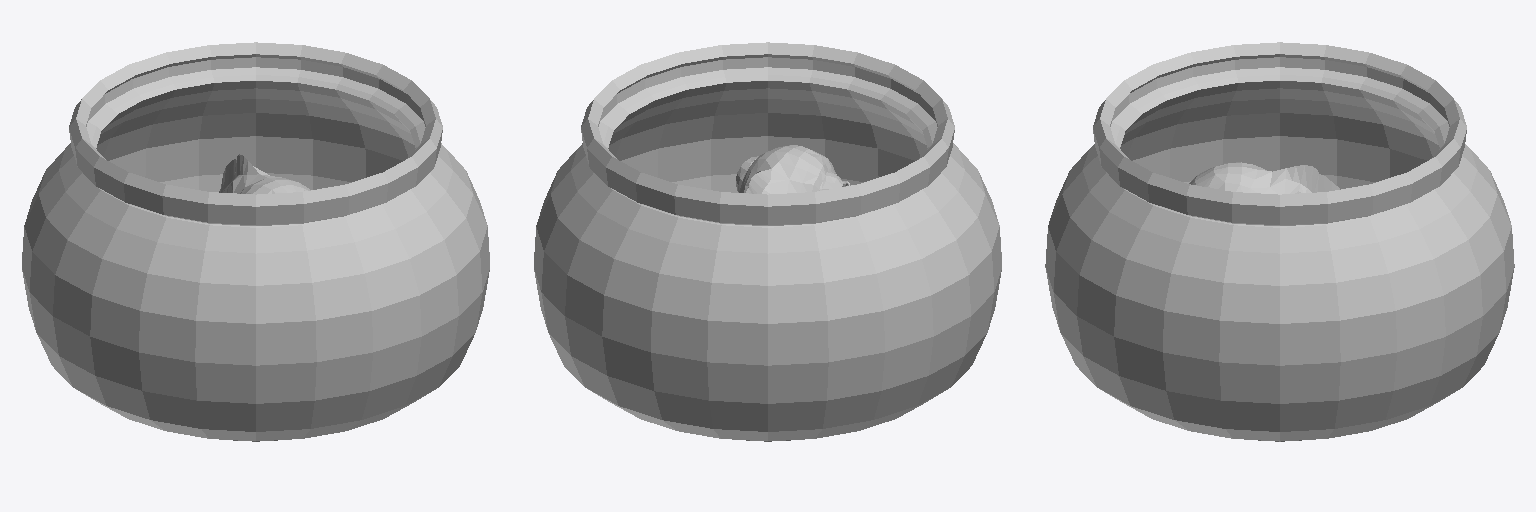
Rendered from fishforsketchfab.obj.
The picture shows the model from 3 angles: view 1: azimuth 30°, elevation 25°; view 2: azimuth 150°, elevation 25°; view 3: azimuth 270°, elevation 25°; orthographic projection.
Parts seen in each view (by area): view 1: revolvedSurface1, polySurface1; view 2: revolvedSurface1, polySurface1; view 3: revolvedSurface1, polySurface1.
Part boxes in pixels (bbox=[...]): revolvedSurface1: bbox=[22, 42, 489, 441]; polySurface1: bbox=[219, 154, 310, 194]; revolvedSurface1: bbox=[534, 42, 1001, 441]; polySurface1: bbox=[736, 145, 850, 194]; revolvedSurface1: bbox=[1045, 42, 1514, 441]; polySurface1: bbox=[1189, 162, 1339, 194].
Size of the model in its own units: 11.79 by 7.63 by 11.79.